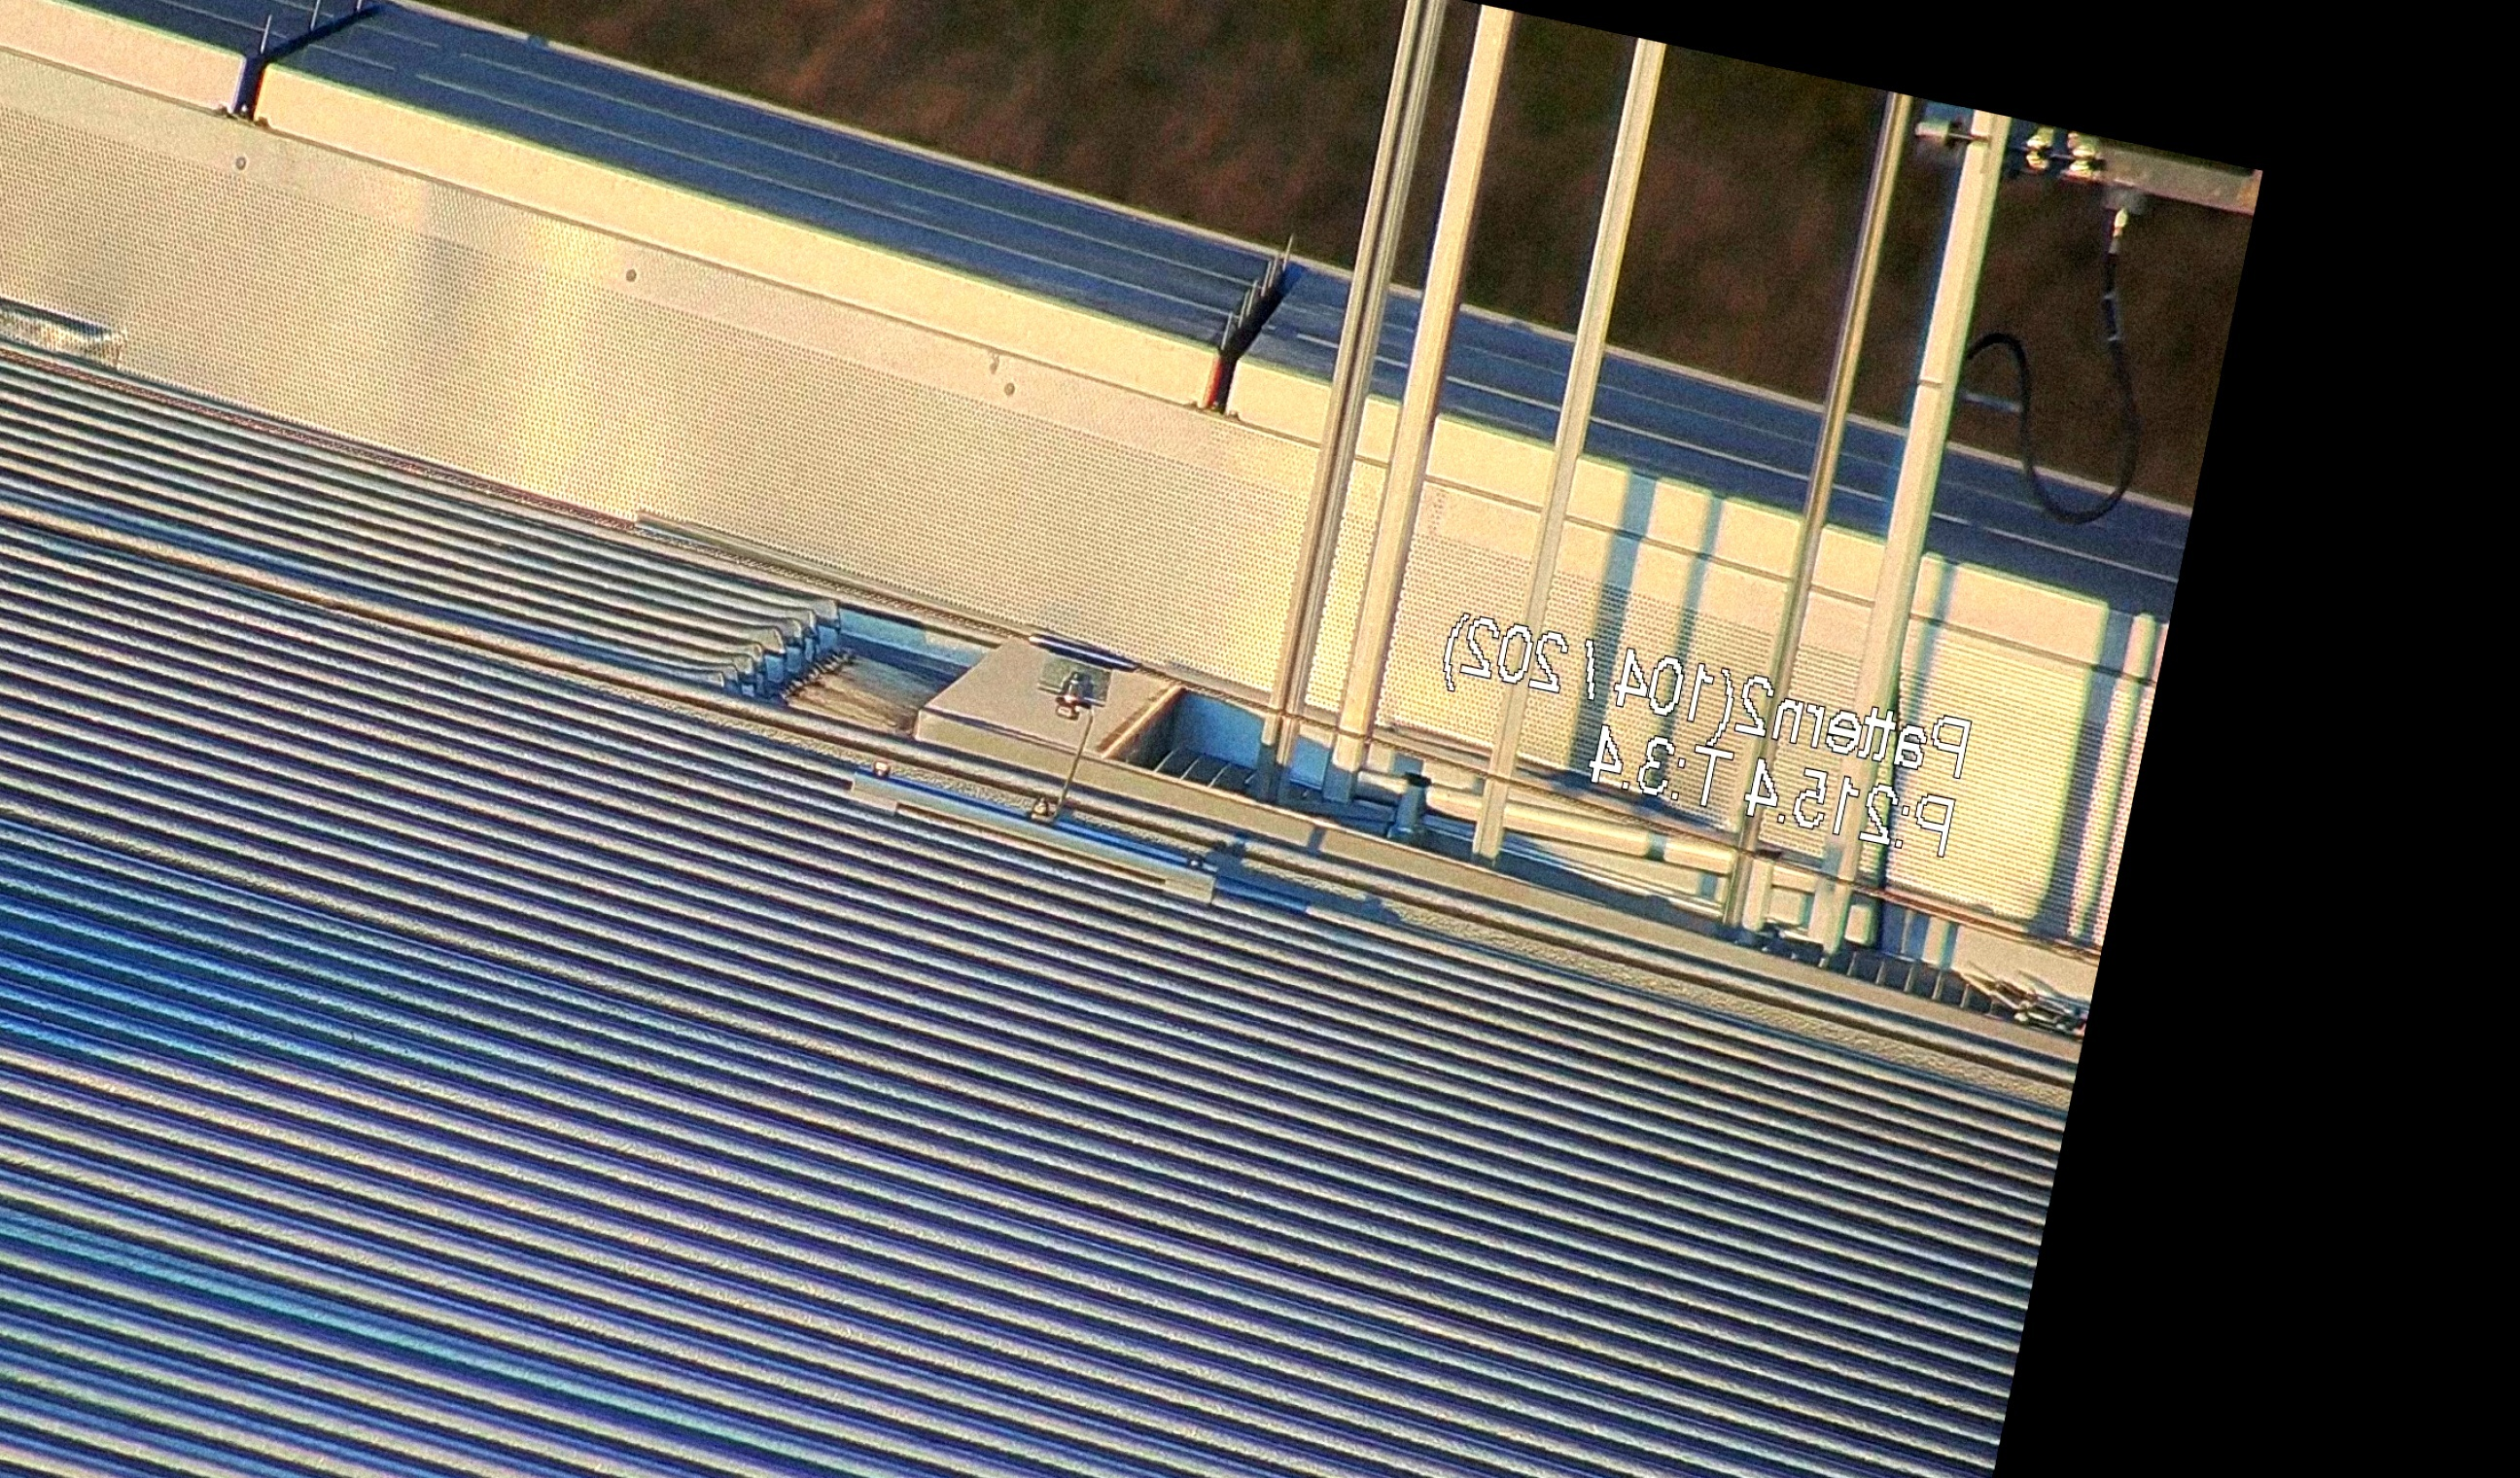Other: (1184, 218, 1322, 433)
